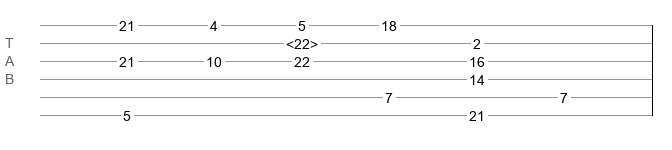10: (206, 54, 222, 64)
14: (469, 72, 485, 82)
16: (469, 54, 485, 64)
18: (381, 18, 397, 28)
2: (473, 36, 481, 46)
21: (119, 54, 135, 64), (119, 18, 135, 28), (469, 108, 485, 118)
22: (294, 54, 310, 64)
4: (210, 18, 218, 28)
5: (123, 108, 131, 118), (298, 18, 306, 28)
7: (385, 90, 393, 100), (560, 90, 568, 100)
harmonic: (286, 36, 318, 46)
